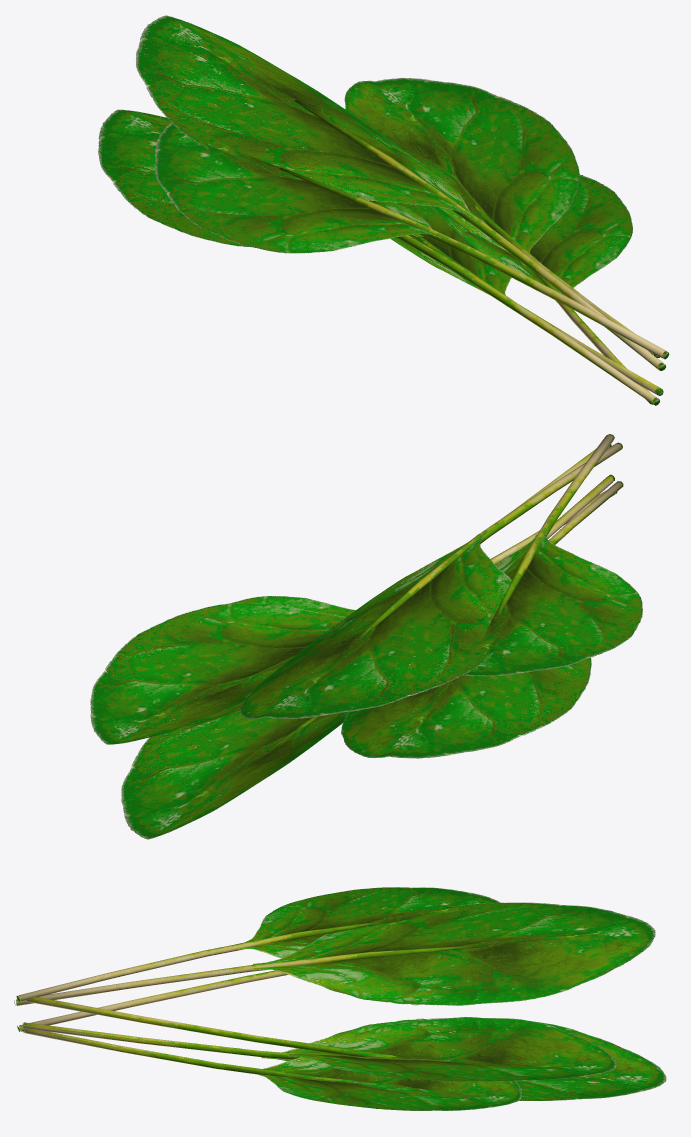
The model's file is espinaca.glb.
The picture shows the model from 3 angles, top to bottom: view 1: azimuth 30°, elevation 25°; view 2: azimuth 150°, elevation 25°; view 3: azimuth 270°, elevation 25°; orthographic projection. The views are drawn at different scales.
Parts seen in each view (by area): view 1: espinaca; view 2: espinaca; view 3: espinaca.
Boxes of the visible parts, <box> form: espinaca: <box>98,15,669,405</box>; espinaca: <box>90,434,642,839</box>; espinaca: <box>14,887,666,1110</box>.
Bounding box in the file's own units: 0.2371 × 0.0635 × 0.3501.
1 material, 1 textured.
